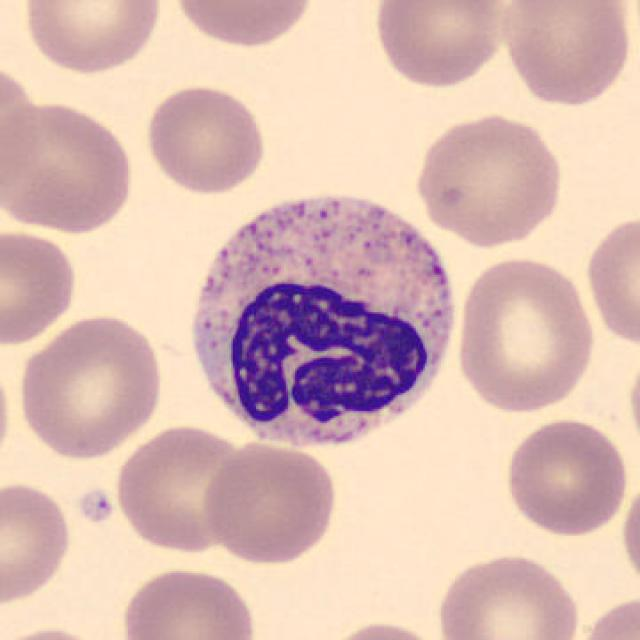Neutrophil: (176, 174, 464, 463)
Platelets: (79, 486, 116, 526)
RBC: (453, 254, 598, 416), (14, 310, 167, 462), (411, 109, 567, 249), (110, 422, 254, 556), (2, 97, 137, 236), (201, 439, 339, 568), (500, 414, 631, 540), (140, 81, 270, 198), (496, 0, 634, 109), (432, 548, 585, 640), (370, 0, 510, 90), (18, 0, 167, 76), (118, 564, 262, 640), (0, 478, 75, 608), (0, 226, 80, 347), (583, 210, 638, 349), (168, 0, 318, 49), (0, 54, 44, 208), (572, 590, 639, 640), (316, 617, 448, 640), (617, 471, 640, 596), (0, 347, 14, 478), (0, 624, 112, 640), (626, 340, 640, 467)
